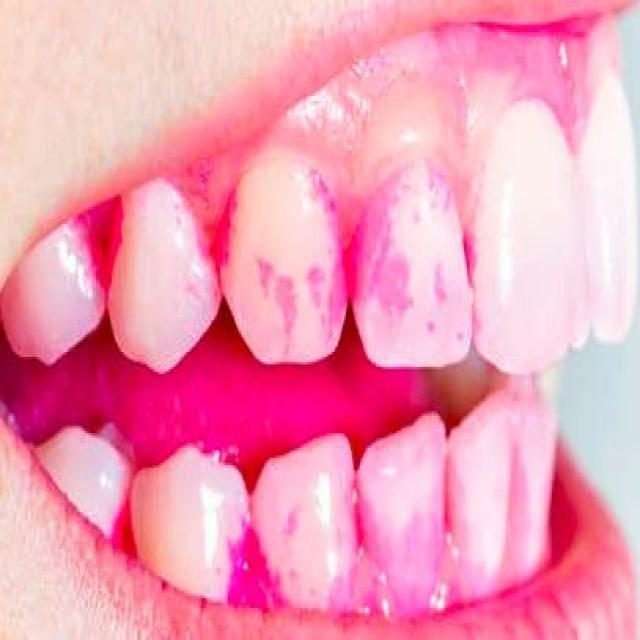1st Premolar: (107, 180, 217, 377), (131, 448, 249, 605)
2nd Premolar: (0, 224, 105, 367), (33, 426, 131, 542)
Canine: (223, 153, 348, 364), (248, 433, 359, 608)
Central Incisor: (473, 101, 588, 377), (574, 57, 638, 345), (447, 392, 513, 601), (506, 399, 558, 581)
Lateral Incisor: (352, 162, 475, 369), (357, 414, 448, 621)
